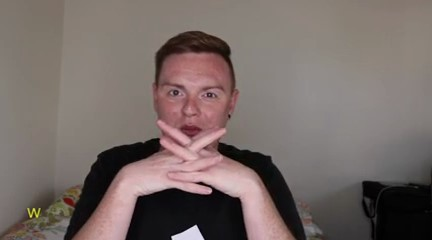W: (107, 112, 269, 201)
